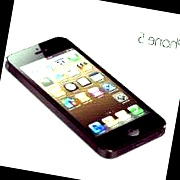iphone: (9, 43, 178, 156)
